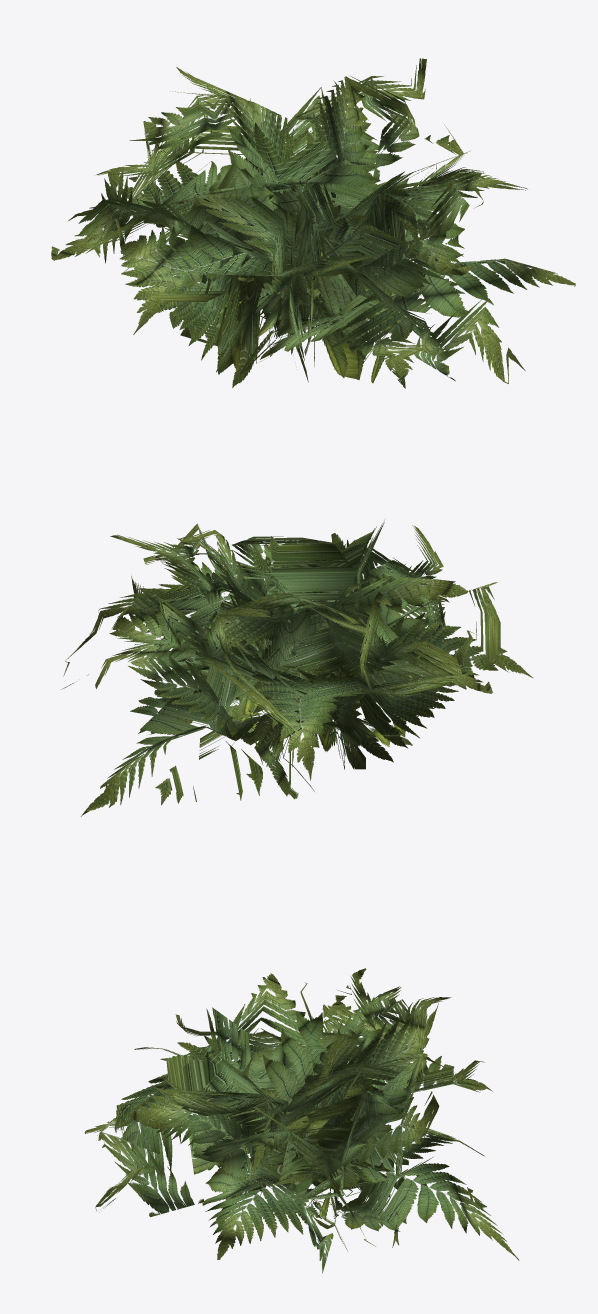
The model's file is kapradi_3.glb.
The picture shows the model from 3 angles, top to bottom: view 1: azimuth 30°, elevation 25°; view 2: azimuth 150°, elevation 25°; view 3: azimuth 270°, elevation 25°; orthographic projection. The views are drawn at different scales.
Visible parts, largest first — view 1: SM_MZRa_Fern_B051_MI_MZRa_Fern_B051_0; view 2: SM_MZRa_Fern_B051_MI_MZRa_Fern_B051_0; view 3: SM_MZRa_Fern_B051_MI_MZRa_Fern_B051_0.
Part boxes in pixels (box(x1,y1,x2,y2)): SM_MZRa_Fern_B051_MI_MZRa_Fern_B051_0: box(51, 58, 575, 388); SM_MZRa_Fern_B051_MI_MZRa_Fern_B051_0: box(61, 520, 533, 816); SM_MZRa_Fern_B051_MI_MZRa_Fern_B051_0: box(84, 968, 519, 1273).
Bounding box in the file's own units: 2.76 × 1.44 × 2.78.
1 material, 1 textured.
